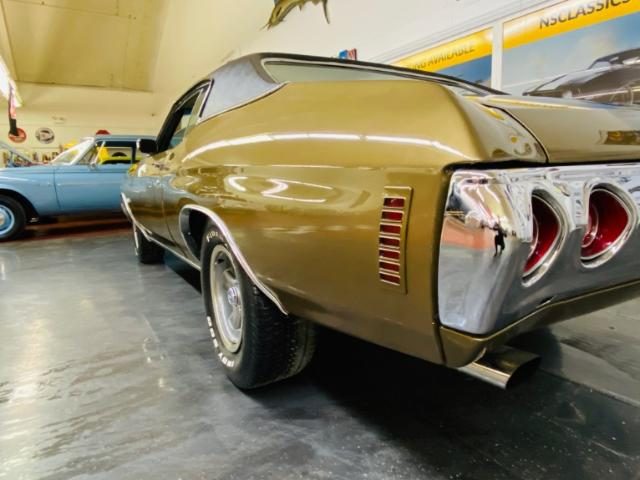chevelle-1972: (121, 53, 639, 388)
